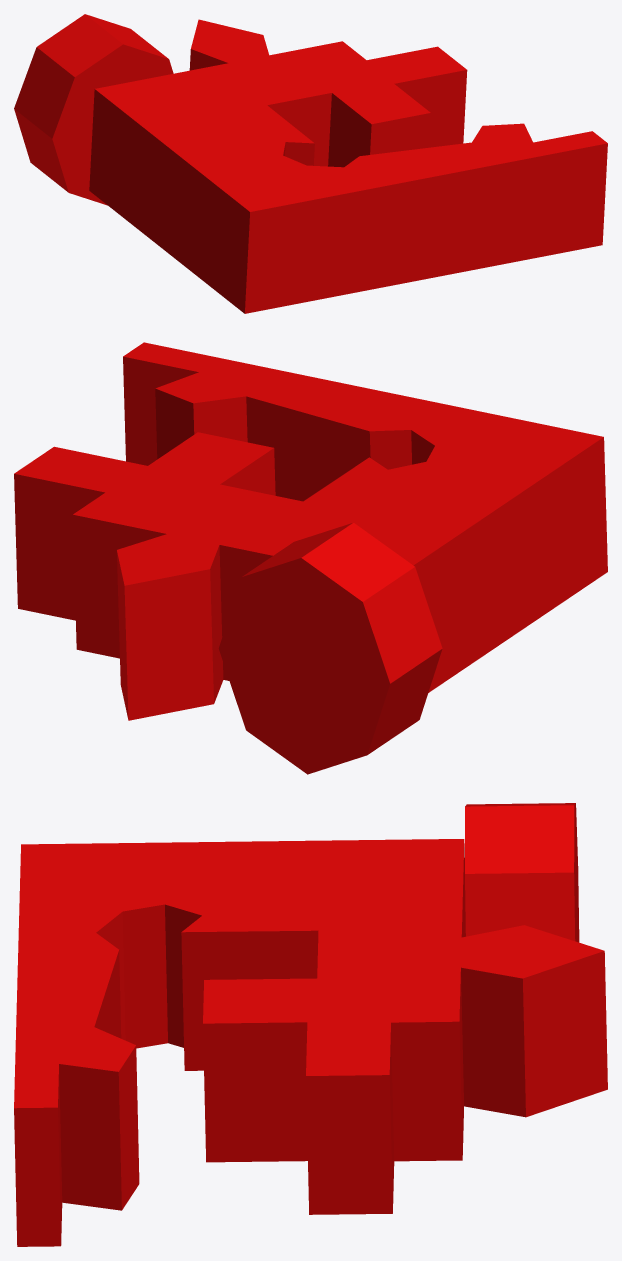
File: Asset_KeyFragment4.glb
3 views of the same model, one above another, from view 1: azimuth 30°, elevation 25°; view 2: azimuth 150°, elevation 25°; view 3: azimuth 270°, elevation 25° (orthographic). The views are drawn at different scales.
Visible parts, largest first — view 1: Asset_KeyFragment4; view 2: Asset_KeyFragment4; view 3: Asset_KeyFragment4.
Boxes of the visible parts, bbox=[...] form: Asset_KeyFragment4: bbox=[14, 14, 607, 313]; Asset_KeyFragment4: bbox=[14, 342, 607, 774]; Asset_KeyFragment4: bbox=[14, 803, 607, 1246].
Size of the model in its own units: 0.2453 by 0.0983 by 0.2308.
